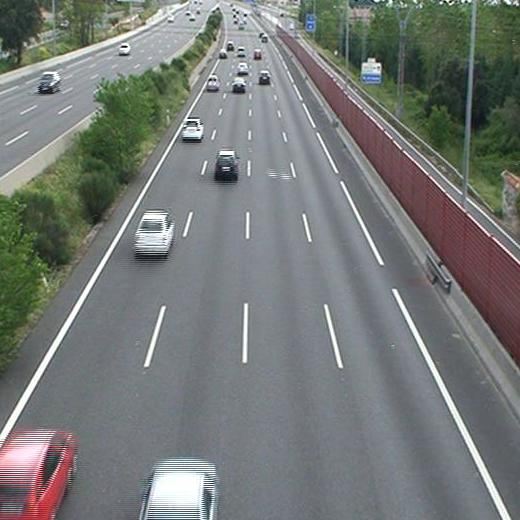car: (1, 428, 75, 520), (140, 460, 215, 520), (134, 213, 174, 253), (215, 150, 238, 174), (182, 119, 203, 139), (205, 75, 219, 89), (232, 77, 246, 90), (258, 71, 271, 82), (237, 62, 249, 73), (253, 50, 263, 60), (237, 47, 246, 58), (226, 42, 235, 52)
